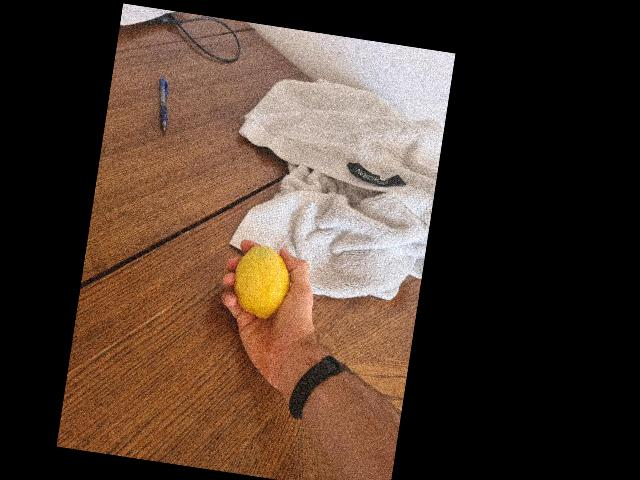lemon: (228, 240, 292, 323)
